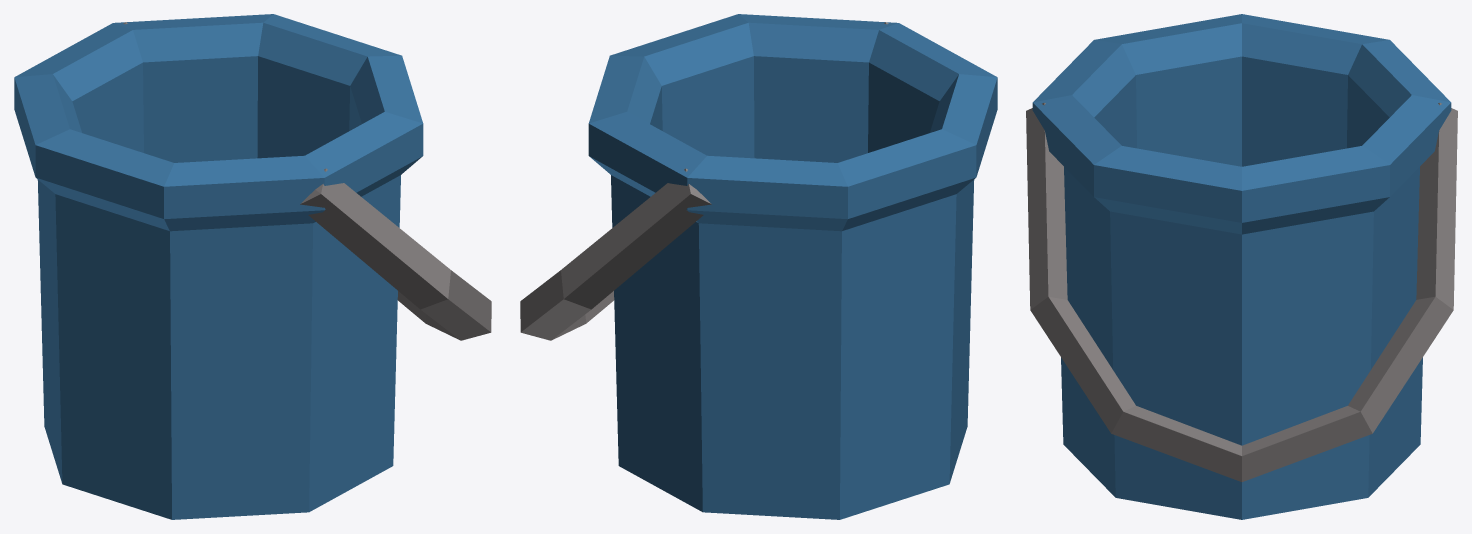
Rendered from beach_sand-bucket.fbx.
3 renders of one model, left to right at view 1: azimuth 30°, elevation 25°; view 2: azimuth 150°, elevation 25°; view 3: azimuth 270°, elevation 25°, orthographic.
Visible parts, largest first — view 1: beach_sand_bucket; view 2: beach_sand_bucket; view 3: beach_sand_bucket.
Boxes of the visible parts, x1=… form: beach_sand_bucket: x1=14, y1=14, x2=491, y2=519; beach_sand_bucket: x1=520, y1=14, x2=997, y2=519; beach_sand_bucket: x1=1026, y1=14, x2=1457, y2=519.
Size of the model in its own units: 200 by 160 by 180.
